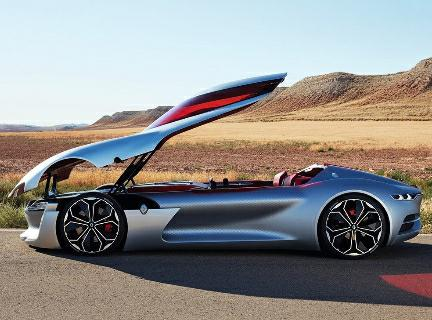雷诺-TREZOR: (12, 130, 430, 269)
